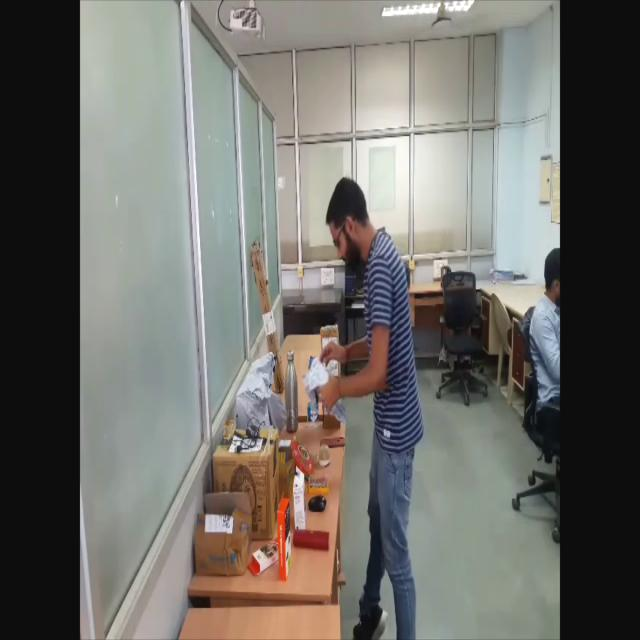normal: (307, 156, 426, 640)
